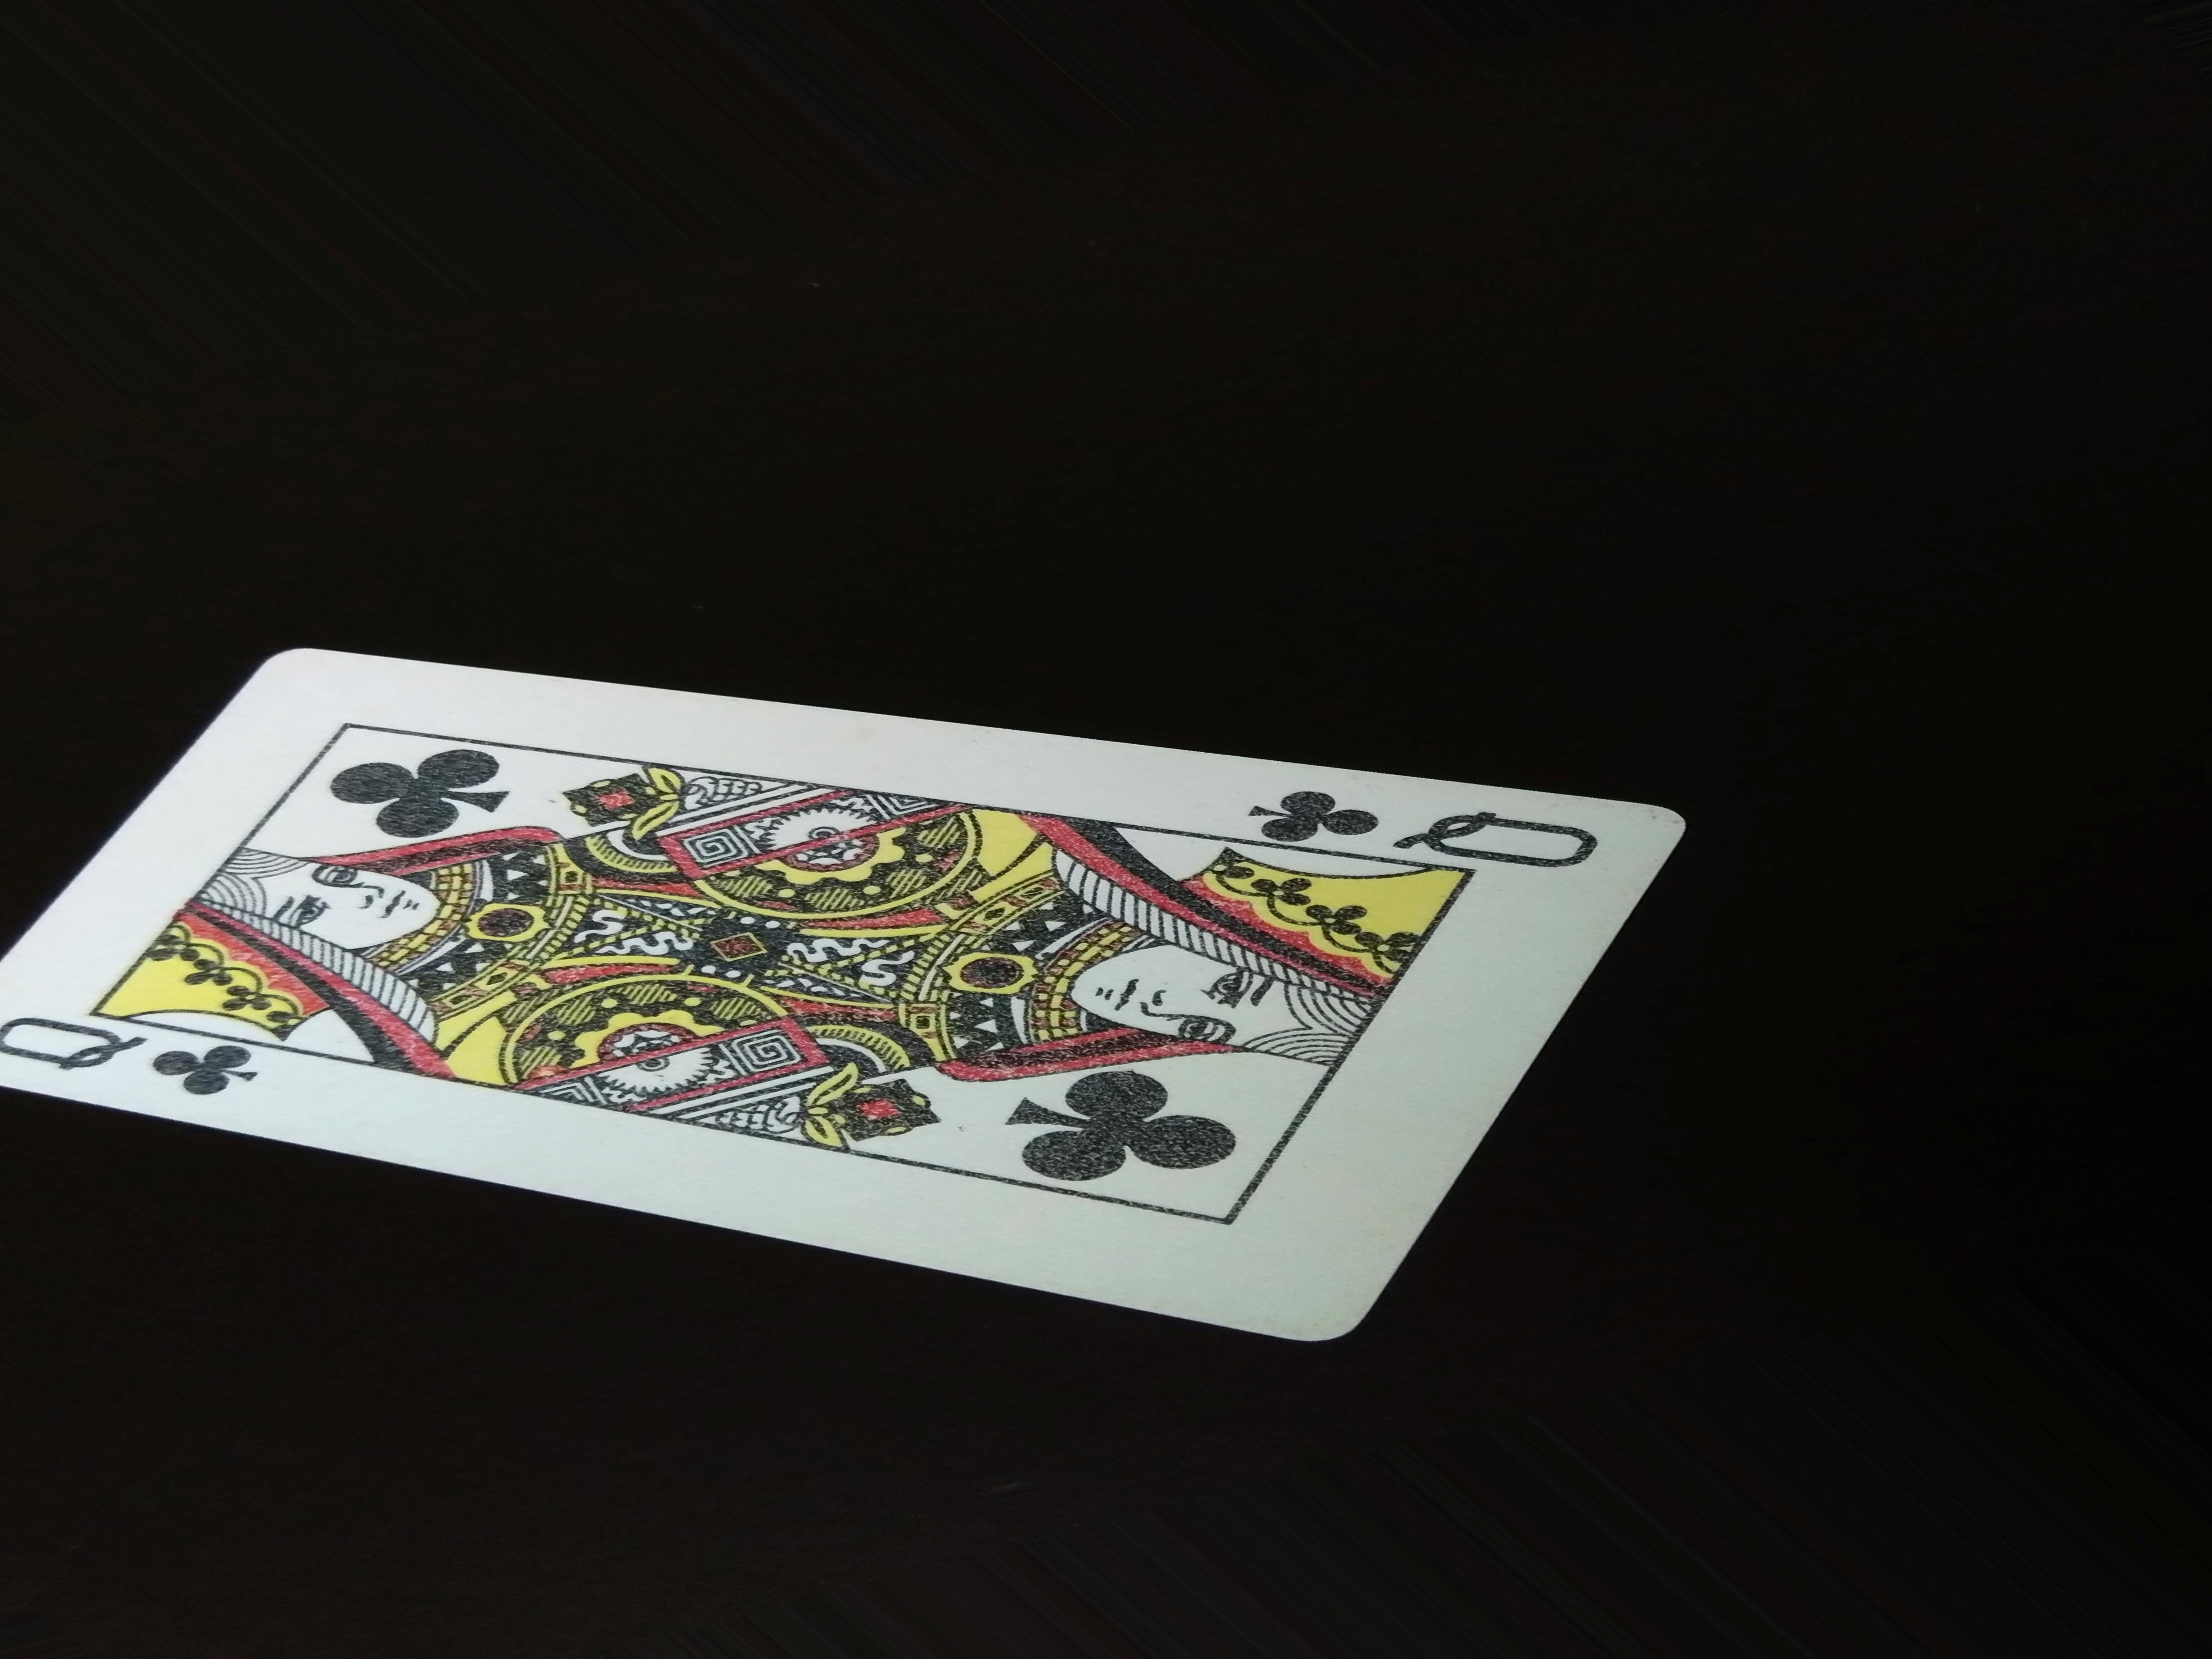QC: (1245, 765, 1611, 878)
